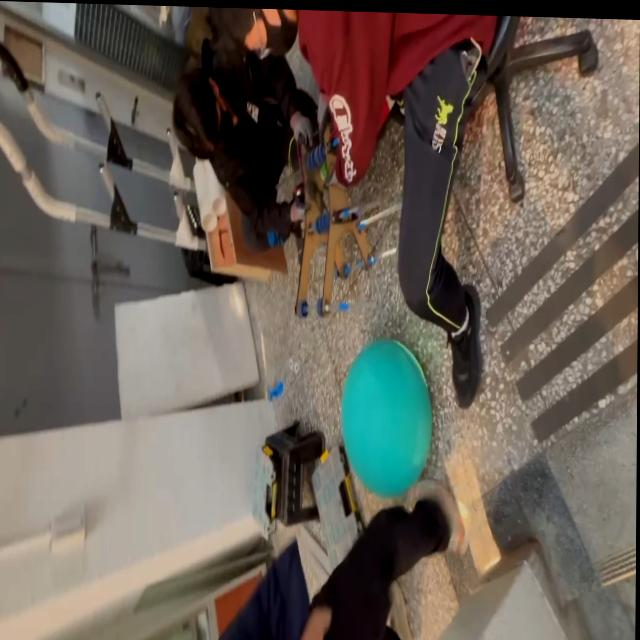ALGAE: (339, 334, 434, 501)
